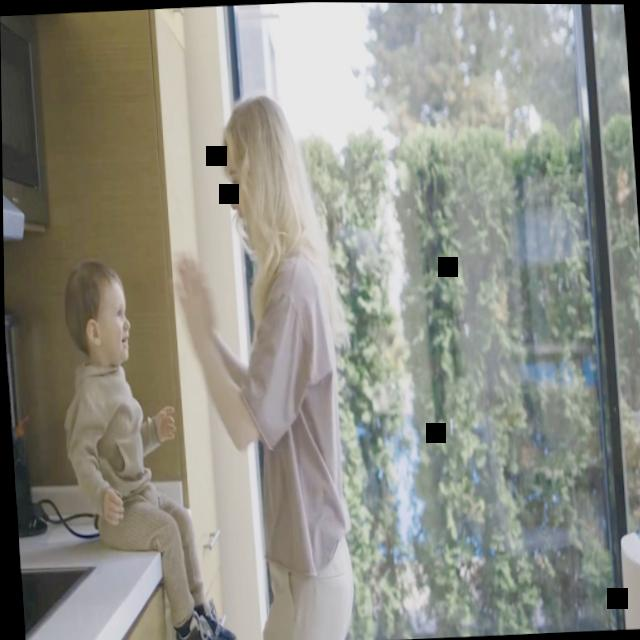NO-Mask: (223, 150, 251, 247), (98, 285, 132, 361)
